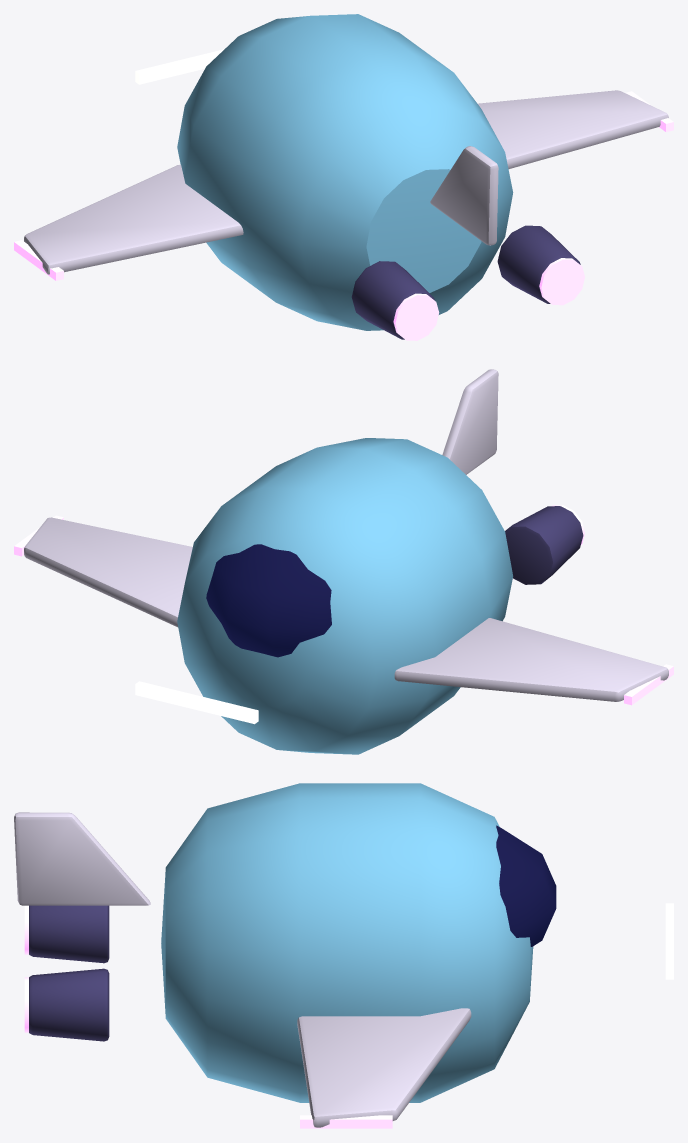
Rendered from sky_car.glb.
3 renders of one model, top to bottom at view 1: azimuth 30°, elevation 25°; view 2: azimuth 150°, elevation 25°; view 3: azimuth 270°, elevation 25°, orthographic. The views are drawn at different scales.
Parts seen in each view (by area): view 1: Body; view 2: Body; view 3: Body.
Boxes of the visible parts, x1,y1,x2,y2 form: Body: (14, 14, 673, 340); Body: (14, 369, 673, 754); Body: (14, 783, 673, 1128).
Size of the model in its own units: 4.69 by 1.9 by 3.92.
